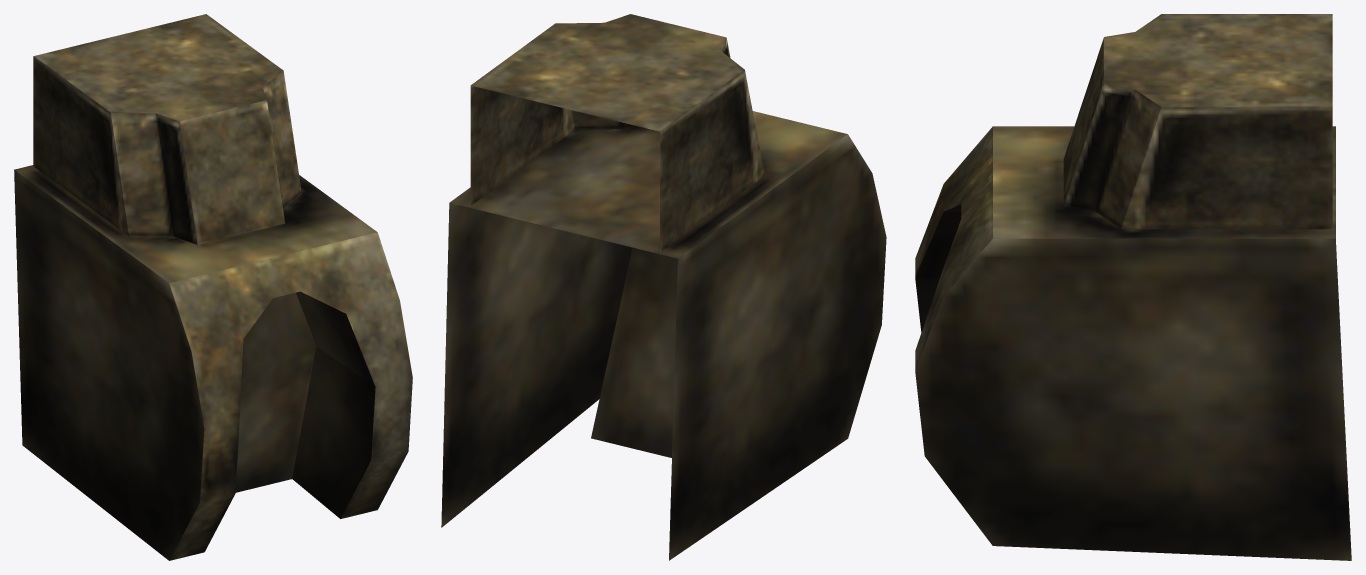
3 renders of one model, left to right at view 1: azimuth 30°, elevation 25°; view 2: azimuth 150°, elevation 25°; view 3: azimuth 270°, elevation 25°, orthographic. The views are drawn at different scales.
Parts seen in each view (by area): view 1: a43; view 2: a43; view 3: a43.
Boxes of the visible parts, <box> form: a43: <box>14,14,412,560</box>; a43: <box>441,14,886,560</box>; a43: <box>915,14,1351,560</box>.
Bounding box in the file's own units: 399 × 734 × 654.
Materials: 1 (1 with a texture image).
